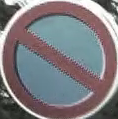No waiting: (5, 3, 113, 114)
